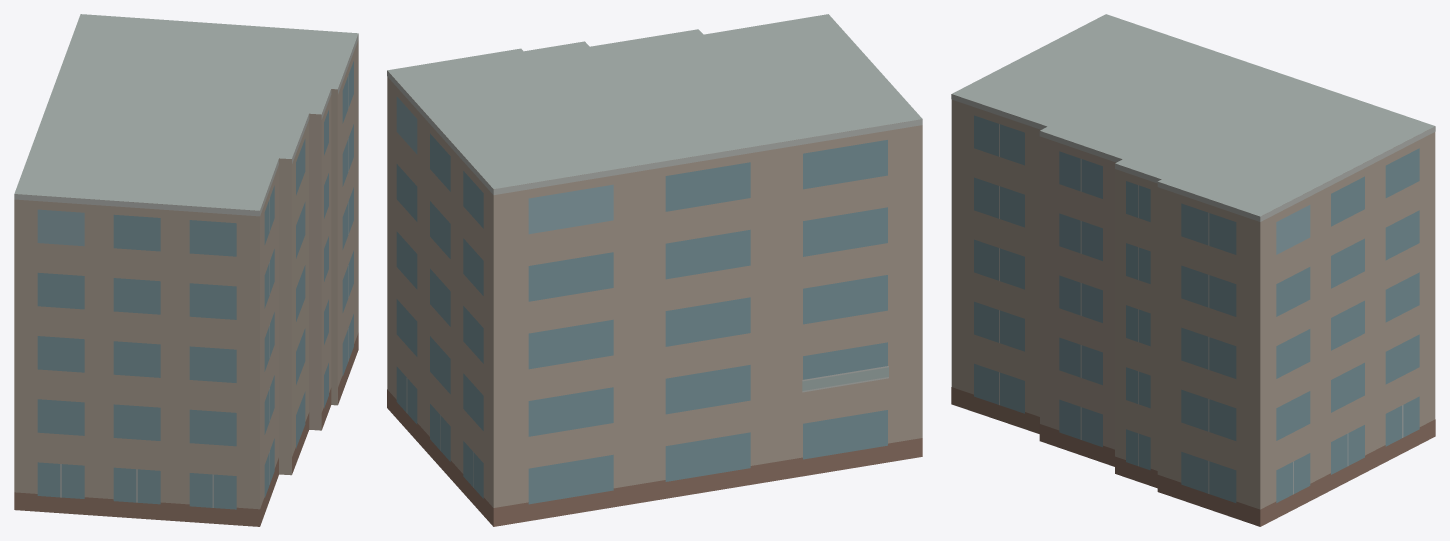
Rendered from survey-upis-32585067.glb.
3 renders of one model, left to right at view 1: azimuth 30°, elevation 25°; view 2: azimuth 150°, elevation 25°; view 3: azimuth 270°, elevation 25°, orthographic. The views are drawn at different scales.
Parts seen in each view (by area): view 1: survey-upis-32585067.tmp; view 2: survey-upis-32585067.tmp; view 3: survey-upis-32585067.tmp.
Part boxes in pixels (bbox=[...]): survey-upis-32585067.tmp: bbox=[14, 14, 358, 526]; survey-upis-32585067.tmp: bbox=[387, 14, 922, 526]; survey-upis-32585067.tmp: bbox=[951, 14, 1435, 526].
Size of the model in its own units: 19.26 by 13.75 by 19.44.
